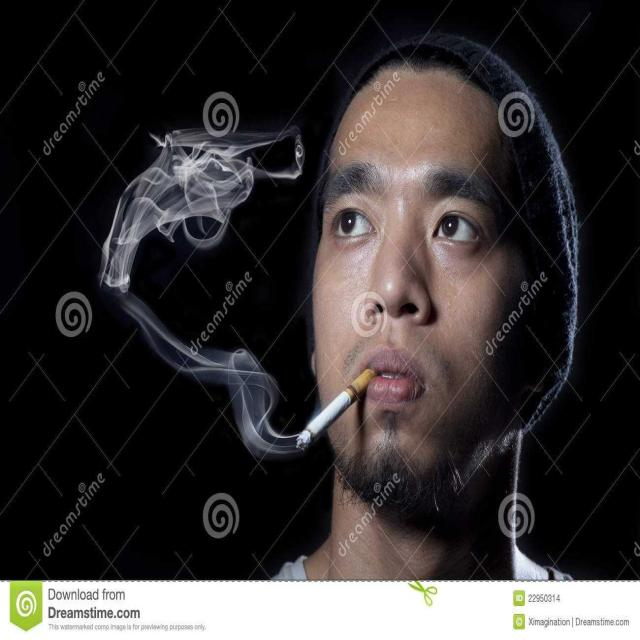Smooking: (264, 361, 398, 464)
